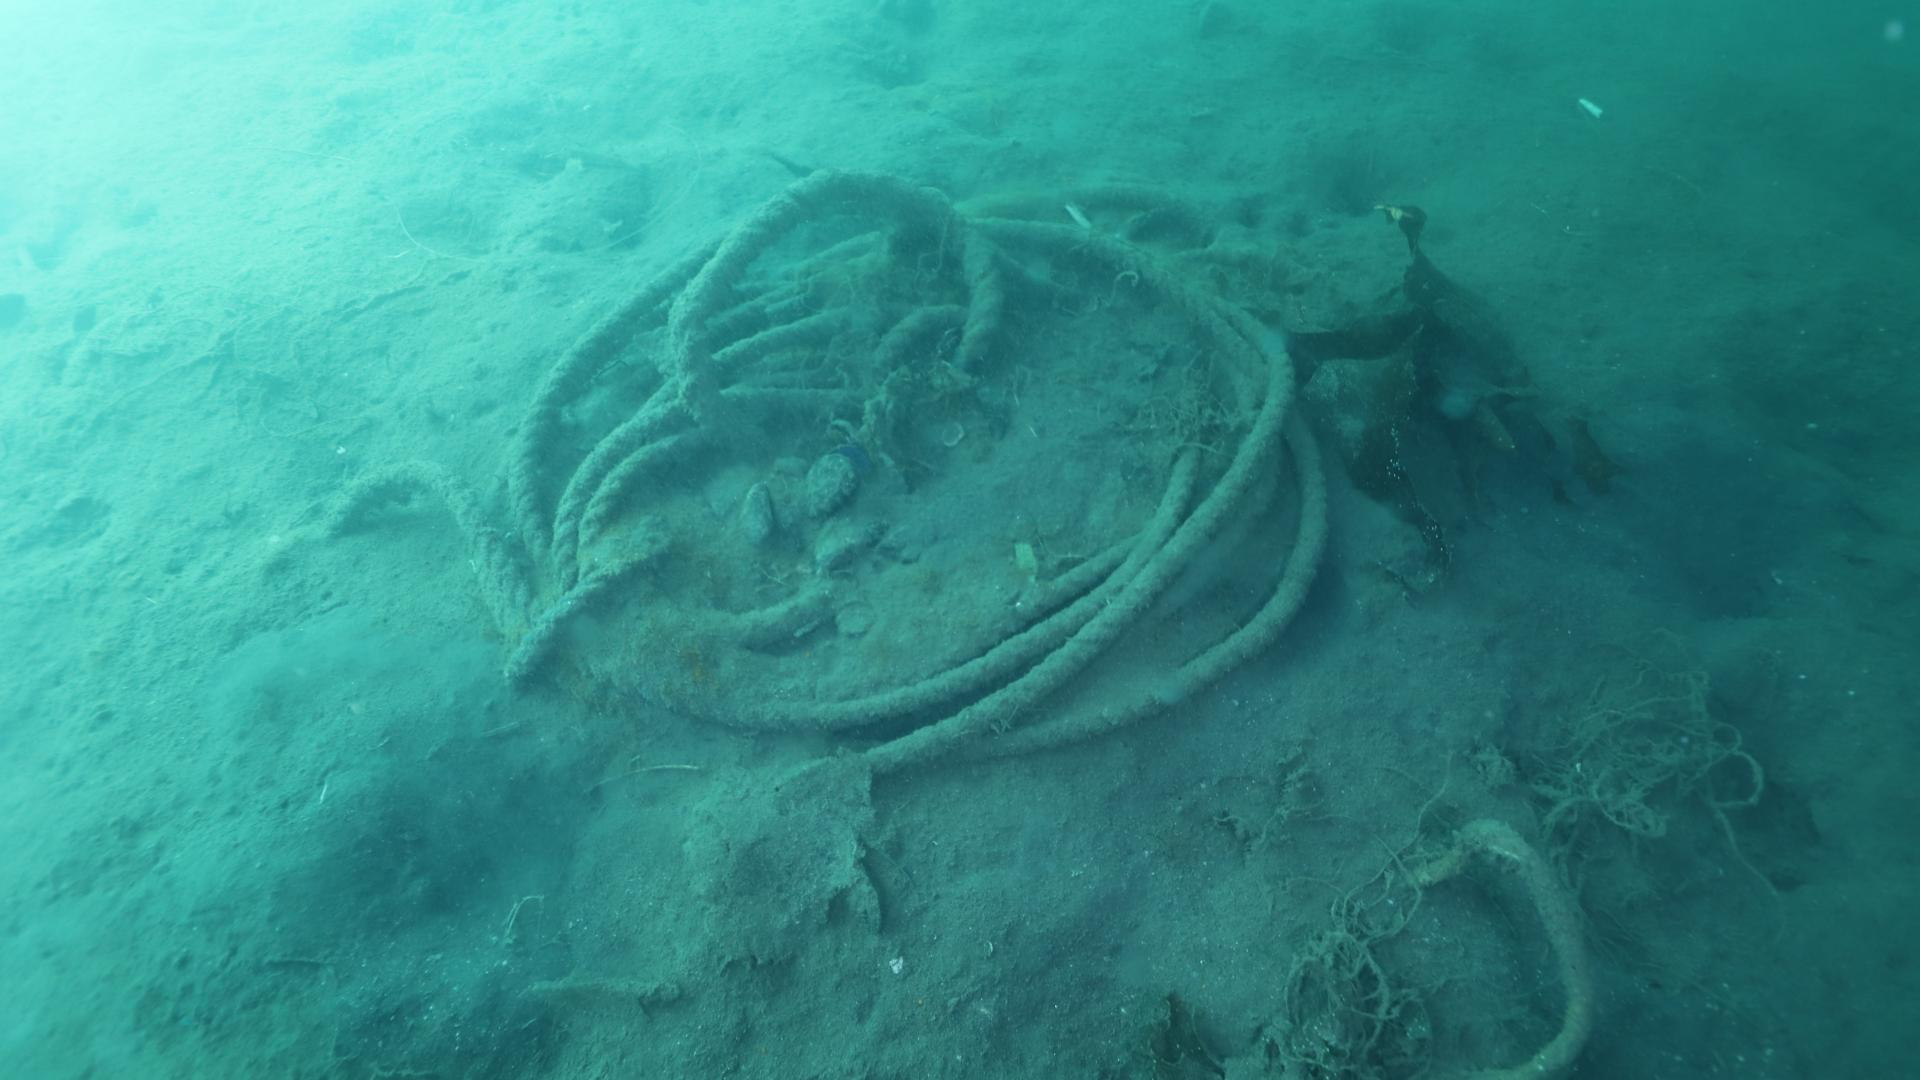bundle of ropes: (324, 167, 1335, 775)
